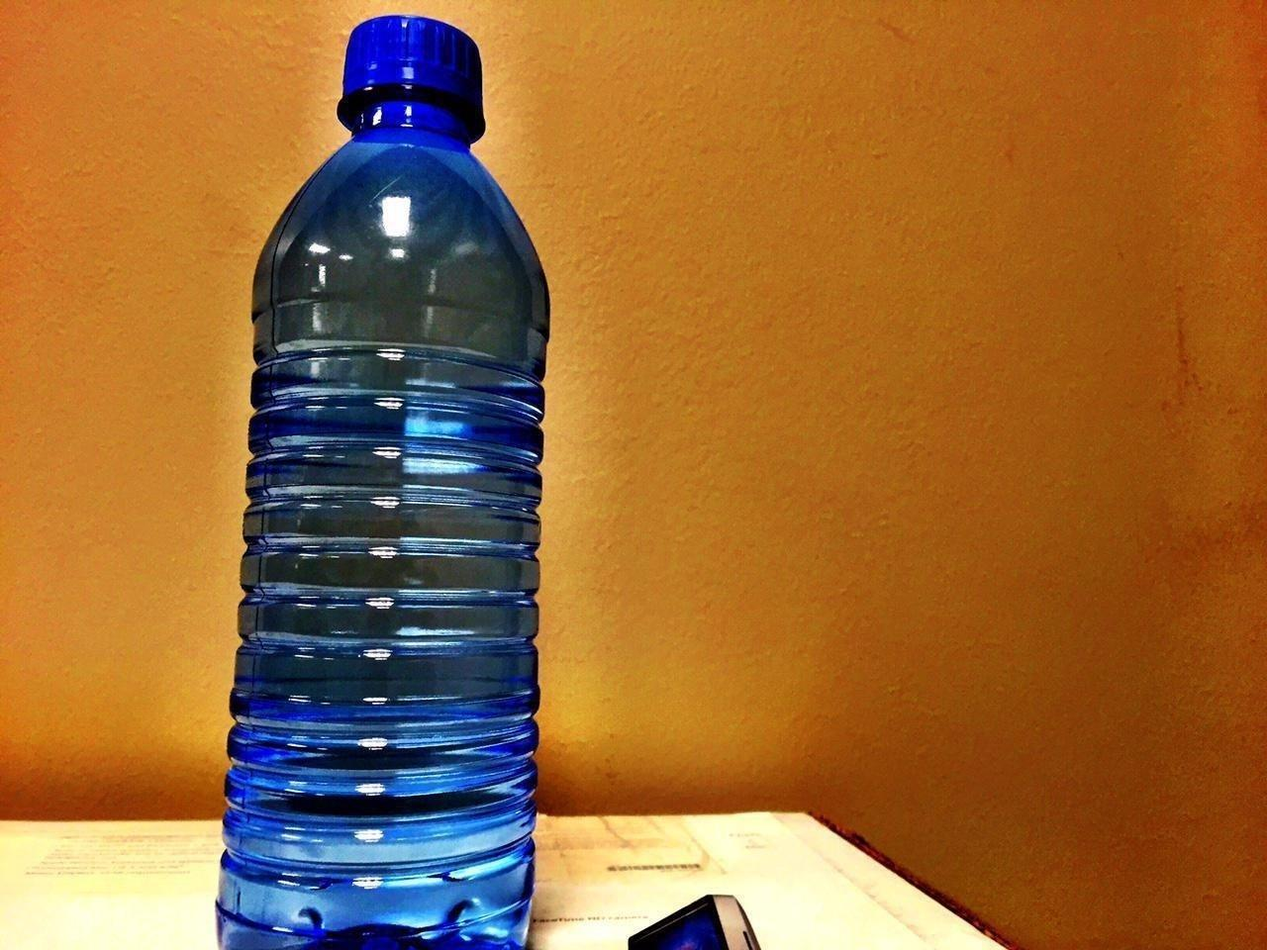bottle-plastic: (212, 8, 558, 948)
